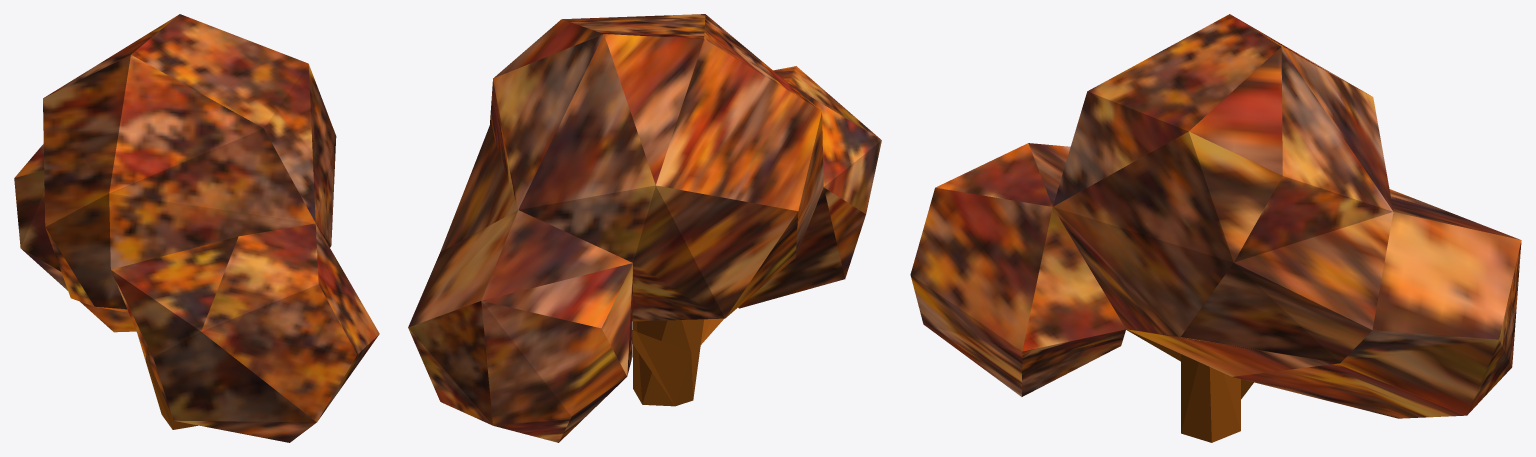
The model's file is bush.fbx.
The picture shows the model from 3 angles, left to right: view 1: azimuth 30°, elevation 25°; view 2: azimuth 150°, elevation 25°; view 3: azimuth 270°, elevation 25°; orthographic projection. The views are drawn at different scales.
Visible parts, largest first — view 1: Cylinder.002, Cylinder.000; view 2: Cylinder.002, Cylinder.000; view 3: Cylinder.002, Cylinder.000.
Part boxes in pixels (left/top/right/bottom): Cylinder.002: left=14, top=14, right=379, bottom=442; Cylinder.000: left=138, top=335, right=197, bottom=429; Cylinder.002: left=408, top=14, right=881, bottom=442; Cylinder.000: left=632, top=318, right=723, bottom=406; Cylinder.002: left=910, top=14, right=1521, bottom=418; Cylinder.000: left=1126, top=329, right=1253, bottom=442.
Size of the model in its own units: 76.01 by 92.1 by 128.
Materials: 1 (1 with a texture image).
